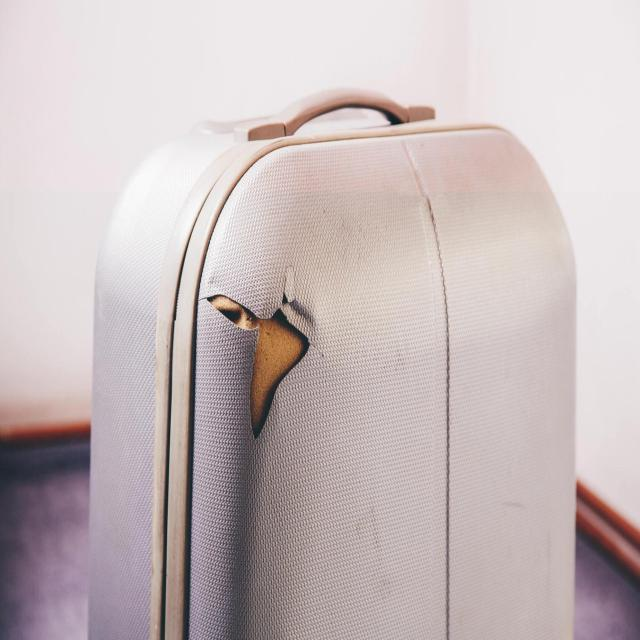Damage-bag: (208, 268, 309, 439)
